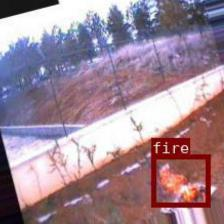fire: (150, 154, 210, 206)
